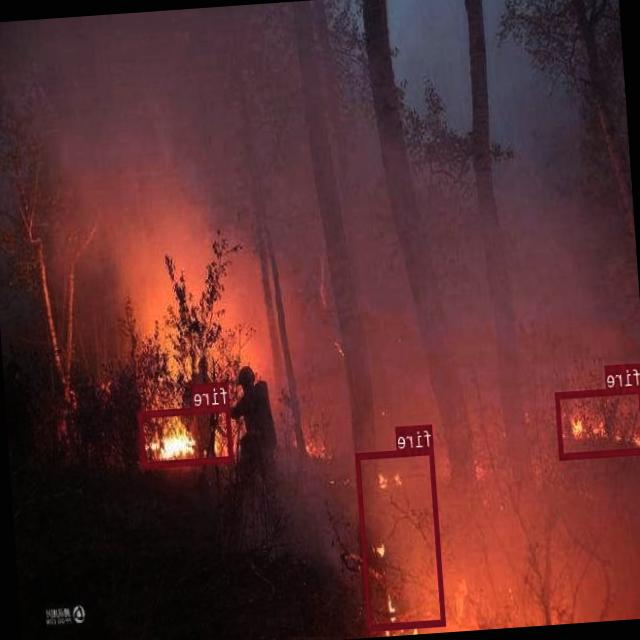fire: (356, 447, 446, 630), (555, 384, 640, 457), (138, 404, 234, 466)
